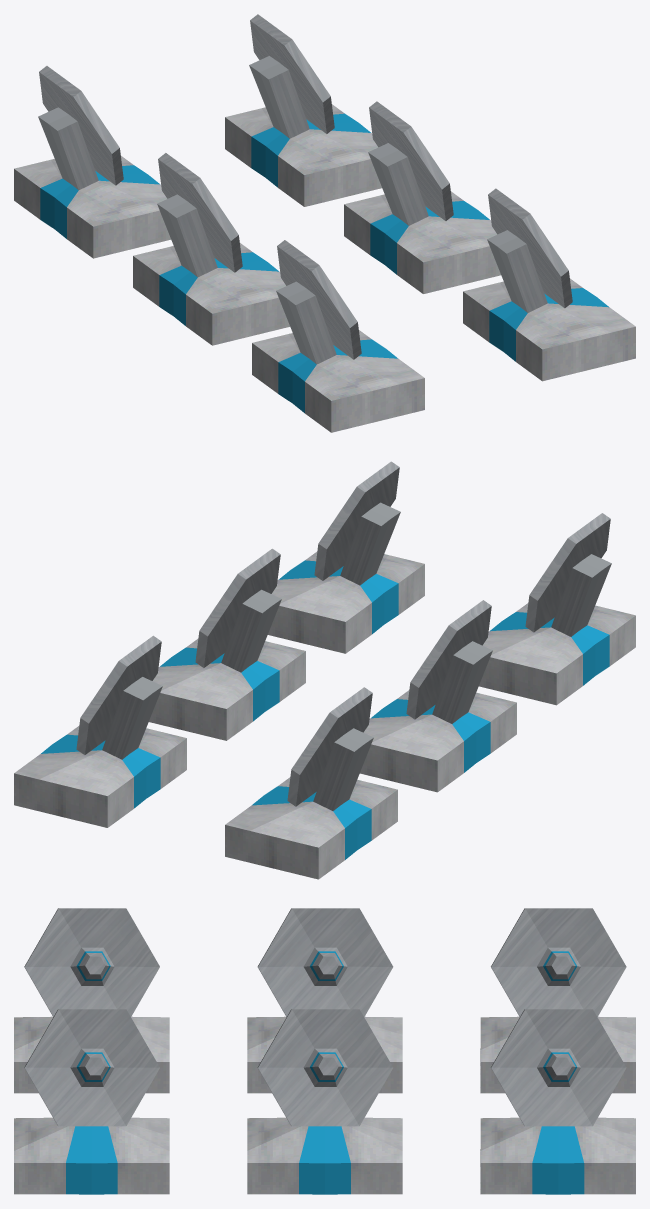
Rendered from Radar.fbx.
3 views of the same model, one above another, from view 1: azimuth 30°, elevation 25°; view 2: azimuth 150°, elevation 25°; view 3: azimuth 270°, elevation 25° (orthographic). The views are drawn at different scales.
Parts seen in each view (by area): view 1: Radar array; view 2: Radar array; view 3: Radar array.
Boxes of the visible parts, box(x1,y1,x2,y2) form: Radar array: box(14, 14, 635, 432); Radar array: box(14, 461, 635, 879); Radar array: box(14, 908, 635, 1194).
Size of the model in its own units: 2112 by 962 by 3726.
